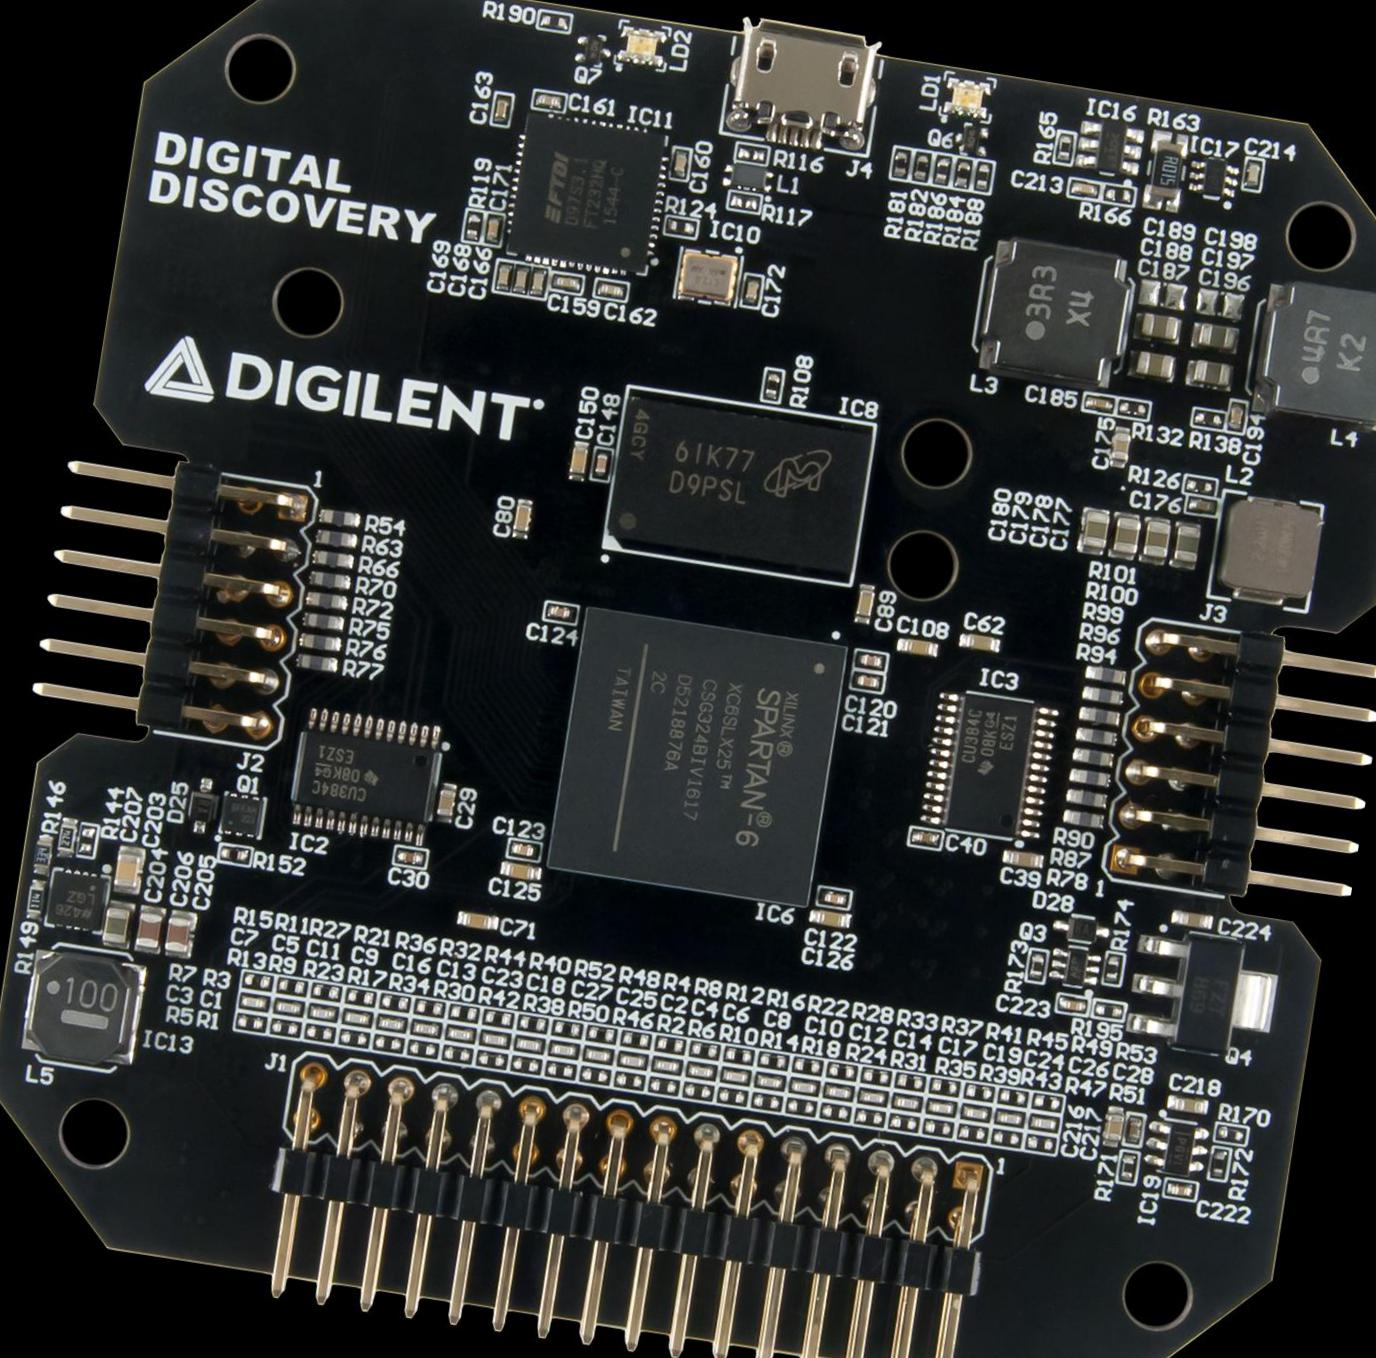Capacitor: (1135, 514, 1171, 565), (1167, 519, 1202, 570), (1075, 505, 1110, 556), (1106, 511, 1142, 560), (1183, 356, 1233, 390), (112, 844, 146, 894), (1132, 311, 1182, 344), (1126, 348, 1177, 381), (100, 900, 133, 949), (1188, 321, 1238, 353), (163, 909, 195, 958), (133, 904, 163, 951), (542, 1036, 582, 1062), (647, 1052, 686, 1078), (1169, 907, 1214, 929), (454, 909, 498, 931), (682, 1057, 719, 1083), (1101, 1106, 1125, 1147), (749, 1068, 788, 1093), (784, 1073, 822, 1098), (510, 497, 532, 540), (887, 1089, 924, 1114), (819, 1079, 856, 1104), (613, 1047, 651, 1072), (510, 1031, 547, 1056), (579, 1042, 616, 1067), (475, 1026, 513, 1051), (269, 994, 306, 1018), (304, 1000, 341, 1025), (234, 990, 271, 1015), (1109, 424, 1130, 468), (852, 1086, 891, 1109), (372, 1011, 411, 1035), (440, 1021, 479, 1045), (1182, 492, 1220, 516), (922, 1094, 958, 1119), (717, 1062, 753, 1087), (407, 1016, 443, 1041), (588, 446, 613, 483), (851, 648, 887, 673), (541, 601, 577, 626), (907, 824, 943, 849), (392, 844, 428, 869), (806, 907, 851, 926), (957, 1099, 994, 1123), (990, 1106, 1028, 1129), (546, 271, 583, 295), (496, 861, 540, 880), (591, 277, 627, 301), (1224, 398, 1248, 434), (848, 669, 885, 693), (815, 885, 851, 909), (1054, 992, 1090, 1016), (1000, 848, 1043, 868), (1024, 1112, 1061, 1134), (567, 439, 587, 480), (1164, 1094, 1208, 1113), (895, 637, 938, 655), (1121, 1111, 1143, 1147), (338, 1006, 374, 1028), (1065, 178, 1101, 200), (509, 261, 531, 297), (1240, 157, 1264, 190), (853, 583, 873, 623), (957, 632, 999, 650), (1162, 1178, 1197, 1200), (1081, 392, 1116, 414), (505, 837, 540, 859), (435, 782, 455, 821), (531, 90, 565, 112), (489, 91, 511, 124), (668, 145, 690, 179), (739, 274, 761, 307), (526, 265, 549, 297), (493, 259, 514, 292), (483, 213, 503, 246)
Connector: (254, 1047, 997, 1357), (29, 443, 318, 750), (1099, 616, 1375, 918), (719, 15, 882, 154)
Diode: (183, 776, 220, 833), (1050, 912, 1110, 944)
IC: (545, 604, 847, 905), (601, 384, 877, 586), (498, 108, 673, 281), (282, 704, 442, 844), (918, 685, 1058, 842), (1140, 1115, 1211, 1179), (1076, 114, 1147, 178), (44, 867, 109, 931), (673, 247, 743, 306), (1187, 153, 1239, 199)
Inductor: (967, 231, 1138, 392), (1240, 275, 1375, 436), (17, 940, 148, 1076), (1207, 489, 1325, 612), (728, 163, 768, 192)
Led: (613, 19, 669, 68), (939, 72, 994, 121)
Pads: (1193, 286, 1243, 320), (1137, 279, 1186, 311), (732, 141, 770, 165), (73, 822, 98, 858), (725, 190, 760, 213)
Resistor Network: (1142, 128, 1189, 211), (534, 7, 574, 34), (479, 1005, 516, 1031), (885, 1108, 922, 1134), (987, 1125, 1024, 1152), (928, 150, 954, 188), (890, 1069, 928, 1094), (753, 1047, 791, 1072), (788, 1053, 826, 1078), (684, 1037, 723, 1062), (649, 1032, 688, 1057), (546, 1016, 585, 1041), (952, 1119, 990, 1144), (918, 1115, 957, 1140), (746, 1088, 785, 1113), (540, 1056, 579, 1081), (712, 1083, 750, 1108), (300, 1020, 338, 1045), (1021, 1129, 1058, 1155), (888, 144, 914, 180), (949, 155, 975, 192), (993, 1084, 1030, 1109), (1026, 1089, 1064, 1114), (959, 1079, 997, 1104), (856, 1063, 893, 1088), (616, 1026, 653, 1051), (513, 1011, 550, 1036), (272, 974, 310, 999), (376, 990, 413, 1015), (850, 1104, 887, 1129), (473, 1047, 510, 1072), (403, 1036, 440, 1061), (266, 1015, 304, 1040), (1099, 182, 1136, 206), (759, 366, 784, 403), (306, 568, 350, 589), (581, 1022, 620, 1046), (678, 1078, 717, 1102), (333, 1026, 372, 1050), (231, 1011, 270, 1035), (824, 1058, 860, 1083), (576, 1062, 612, 1087), (506, 1052, 542, 1077), (370, 1031, 406, 1056), (908, 148, 933, 184), (318, 506, 361, 527), (1064, 786, 1106, 807), (31, 833, 53, 873), (924, 1074, 962, 1098), (719, 1043, 756, 1067), (444, 1001, 481, 1025), (306, 980, 343, 1004), (781, 1094, 819, 1118), (815, 1099, 852, 1123), (610, 1068, 647, 1092), (438, 1042, 475, 1066), (462, 206, 485, 244), (1113, 397, 1151, 420), (311, 548, 352, 570), (1076, 705, 1120, 725), (1070, 746, 1113, 766), (1211, 1120, 1247, 1144), (341, 985, 377, 1009), (411, 996, 447, 1020), (644, 1073, 681, 1097), (970, 158, 994, 194), (1181, 474, 1217, 497), (216, 842, 253, 866), (1090, 997, 1126, 1021), (305, 591, 347, 611), (300, 611, 342, 630), (1061, 807, 1104, 827), (1207, 1145, 1230, 1180), (1051, 129, 1075, 164), (663, 214, 698, 238), (1101, 950, 1125, 985), (1024, 948, 1048, 982), (1084, 663, 1125, 683), (314, 529, 357, 547), (1072, 726, 1116, 745), (239, 970, 275, 992), (1189, 407, 1225, 429), (295, 652, 335, 672), (297, 633, 340, 652), (1116, 1149, 1138, 1184), (1080, 685, 1121, 704), (1067, 767, 1109, 786), (56, 818, 76, 856), (25, 879, 44, 918)
Transistor: (1123, 924, 1281, 1063), (1048, 943, 1101, 990), (219, 792, 265, 838), (572, 30, 612, 63), (959, 126, 979, 158)
